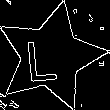L_N: (33, 30, 69, 83)
